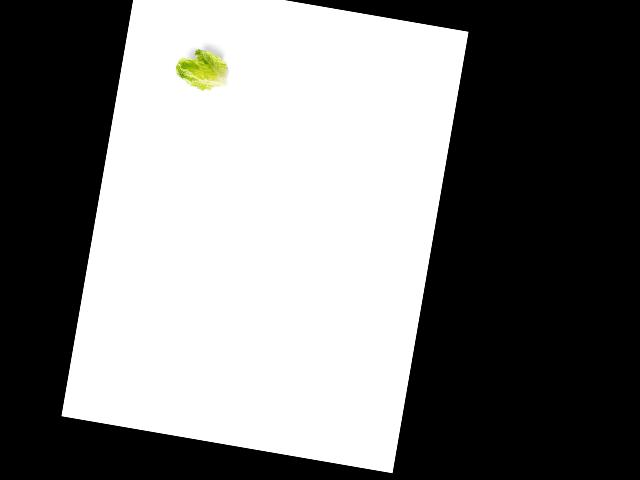lettuce: (169, 44, 236, 96)
